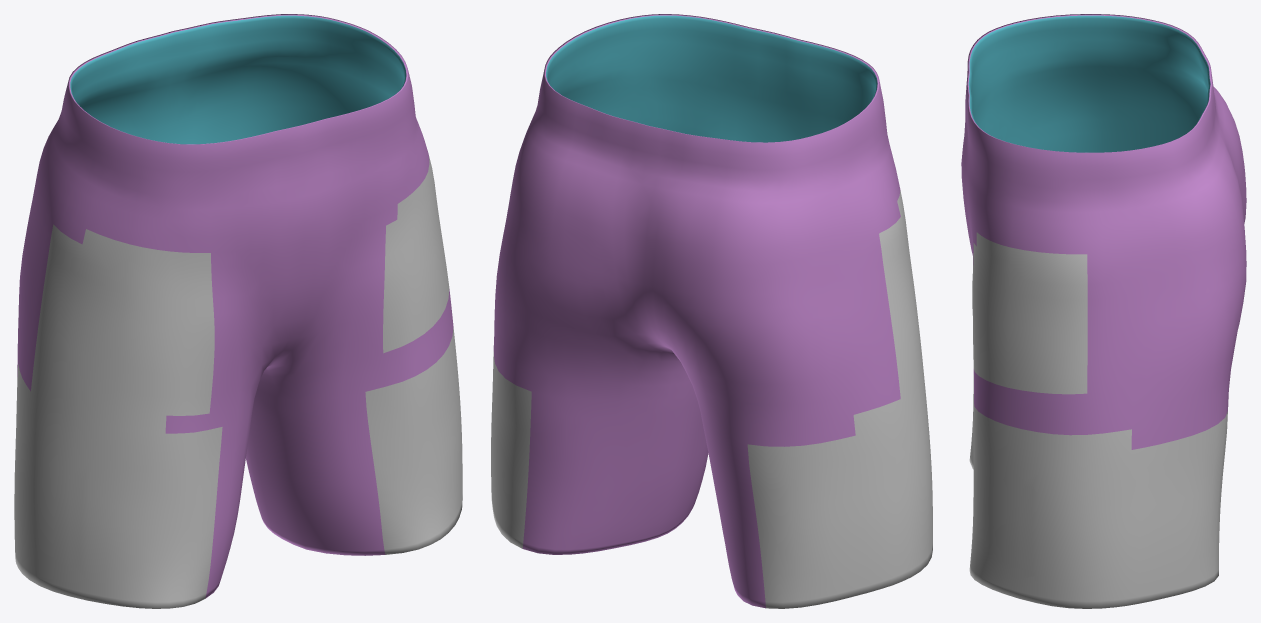
The picture shows the model from 3 angles, left to right: view 1: azimuth 30°, elevation 25°; view 2: azimuth 150°, elevation 25°; view 3: azimuth 270°, elevation 25°; orthographic projection. The views are drawn at different scales.
Parts seen in each view (by area): view 1: main, reverse; view 2: main, reverse; view 3: main, reverse.
Boxes of the visible parts, x1,y1,x2,y2 form: main: [14, 14, 462, 608]; reverse: [70, 15, 406, 144]; main: [491, 14, 932, 608]; reverse: [546, 15, 877, 142]; main: [961, 14, 1246, 608]; reverse: [968, 15, 1210, 152].
Bounding box in the file's own units: 0.8811 × 0.9298 × 0.5429.
